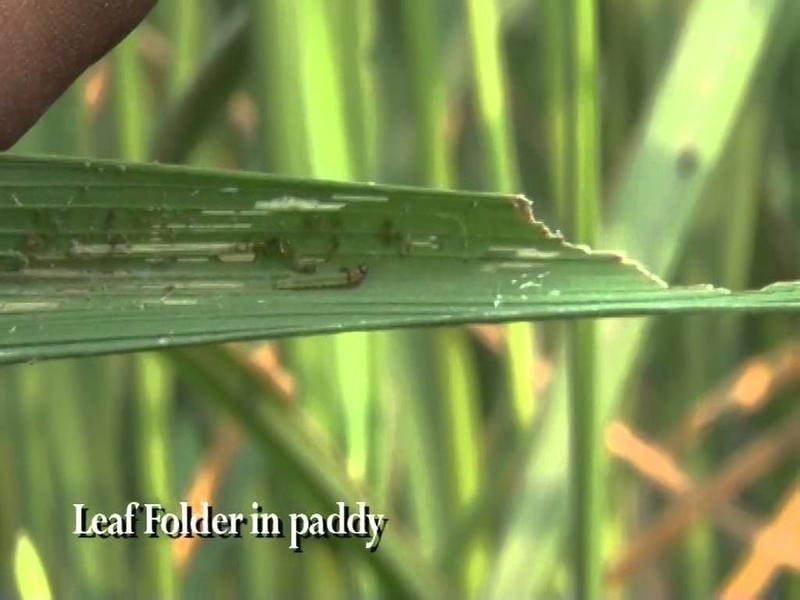Leaf_folder: (148, 202, 415, 319)
